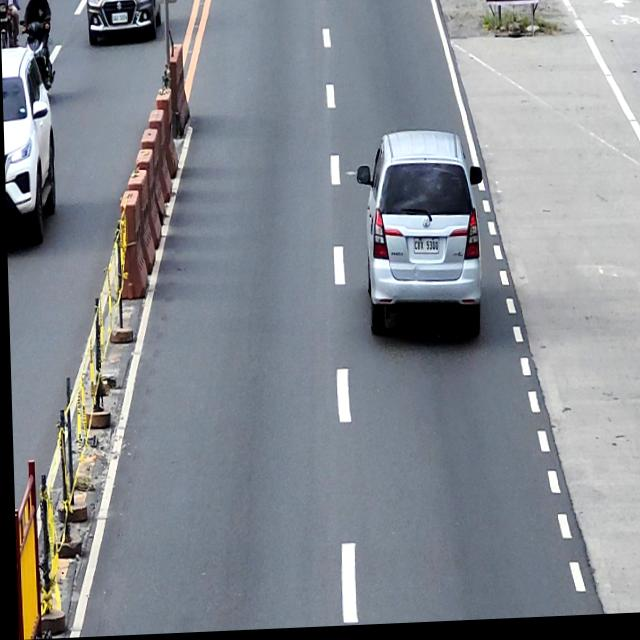Car: (355, 128, 485, 347), (1, 45, 57, 248), (85, 0, 163, 46)
License-Plate: (411, 240, 437, 257), (112, 14, 128, 25)
Motorcycle: (19, 16, 54, 100)
